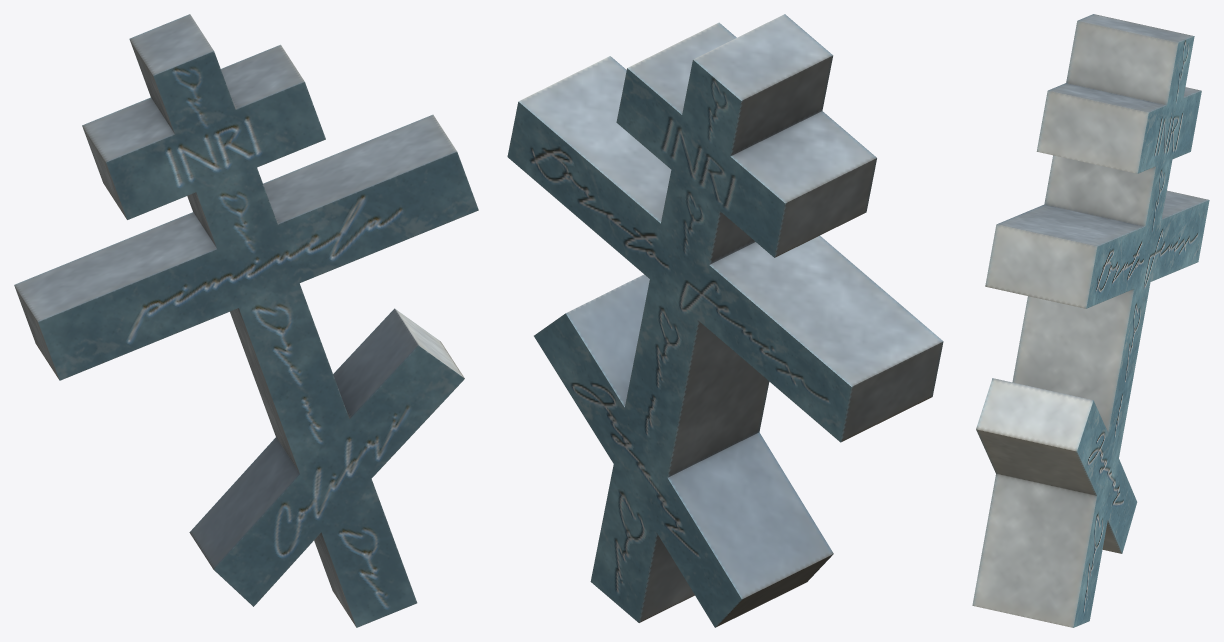
The picture shows the model from 3 angles, left to right: view 1: azimuth 30°, elevation 25°; view 2: azimuth 150°, elevation 25°; view 3: azimuth 270°, elevation 25°; orthographic projection. The views are drawn at different scales.
Parts seen in each view (by area): view 1: Cruz_Orto_Cube.011; view 2: Cruz_Orto_Cube.011; view 3: Cruz_Orto_Cube.011.
Part boxes in pixels (bbox=[...]): Cruz_Orto_Cube.011: bbox=[14, 14, 478, 627]; Cruz_Orto_Cube.011: bbox=[507, 14, 943, 627]; Cruz_Orto_Cube.011: bbox=[972, 14, 1209, 627].
Bounding box in the file's own units: 1.99 × 2.69 × 1.07.
